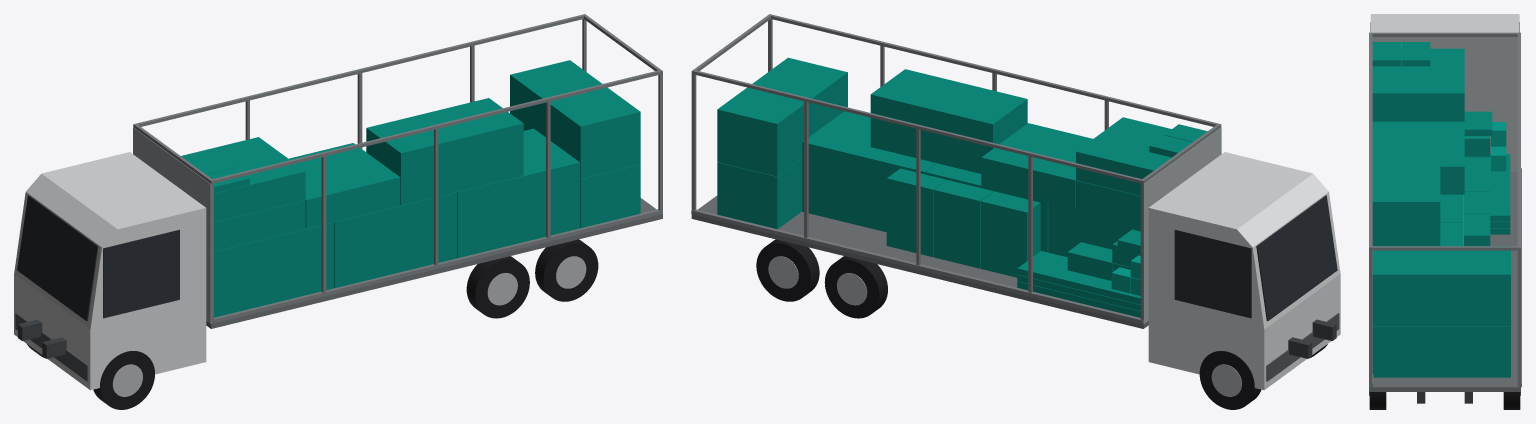
Rendered from truck-BL01.glb.
3 renders of one model, left to right at view 1: azimuth 30°, elevation 25°; view 2: azimuth 150°, elevation 25°; view 3: azimuth 270°, elevation 25°, orthographic. The views are drawn at different scales.
Visible parts, largest first — view 1: cabine, part43, part45, part39, part38, part37, part23, part42, janela, part41, part44, frente (+16 smaller); view 2: cabine, part43, part45, part39, piso, part23, part42, janela, part44, part41, part49, part50 (+24 smaller); view 3: part45, part44, part43, part41, frente, piso, part42, cabine, part48, part51, part14, part16 (+20 smaller).
Part boxes in pixels (x1,y1,x2,y2): cabine: (14,152,206,390); part43: (366,98,523,205); part45: (510,60,640,178); part39: (457,128,579,258); part38: (334,192,456,288); part37: (214,222,333,317); part23: (17,195,98,321); part42: (289,143,400,228); janela: (103,229,179,318); part41: (181,137,305,222); part44: (580,164,640,228); frente: (133,127,211,323); cabine: (1148,152,1340,390); part43: (870,69,1027,173); part45: (717,57,847,176); part39: (802,111,936,232); piso: (691,195,1148,328); part23: (1256,195,1337,321); part42: (981,123,1092,208); janela: (1174,229,1251,318); part44: (717,159,802,229); part41: (1076,117,1171,195); part49: (980,191,1040,277); part50: (933,180,993,268); part45: (1372,246,1510,325); part44: (1372,326,1510,377); part43: (1372,143,1440,245); part41: (1372,48,1464,121); frente: (1372,37,1517,171); piso: (1369,172,1520,391); part42: (1372,122,1464,194); cabine: (1370,14,1519,32); part48: (1490,154,1510,221); part51: (1464,213,1490,245); part14: (1369,32,1372,250); part16: (1517,32,1520,250).
Bounding box in the file's own units: 11.24 × 3.78 × 2.58.
